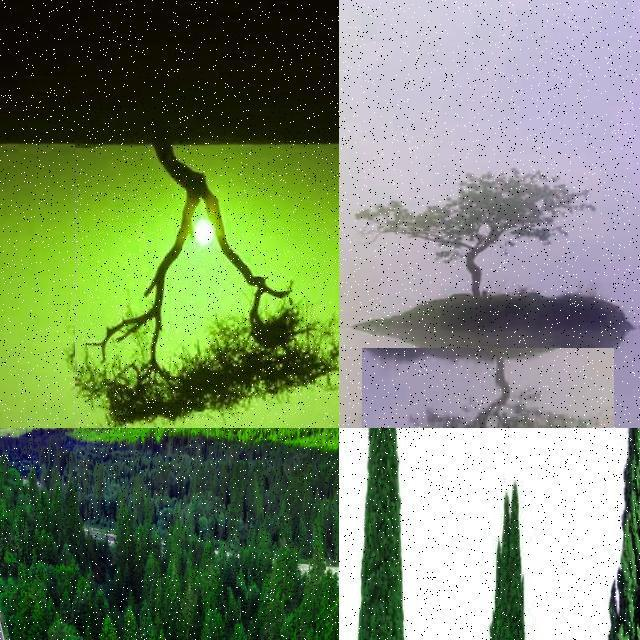tree: (75, 128, 339, 428), (360, 159, 604, 305), (362, 348, 614, 428), (352, 428, 416, 640), (488, 480, 532, 640), (116, 494, 138, 586), (172, 571, 200, 640), (0, 519, 18, 593), (1, 528, 16, 616), (0, 482, 14, 574), (140, 550, 160, 602), (4, 517, 24, 563), (24, 599, 46, 640), (310, 522, 326, 570), (248, 472, 264, 520), (62, 476, 78, 524), (95, 616, 123, 640), (94, 468, 110, 508), (222, 553, 238, 591), (0, 488, 8, 562), (124, 604, 140, 640), (226, 620, 254, 640), (329, 504, 338, 560), (227, 587, 241, 621), (236, 568, 248, 600), (297, 516, 309, 546), (280, 516, 292, 546), (0, 498, 8, 538), (0, 548, 8, 588), (215, 508, 225, 538), (264, 622, 280, 640), (60, 590, 72, 614), (199, 514, 209, 540)
